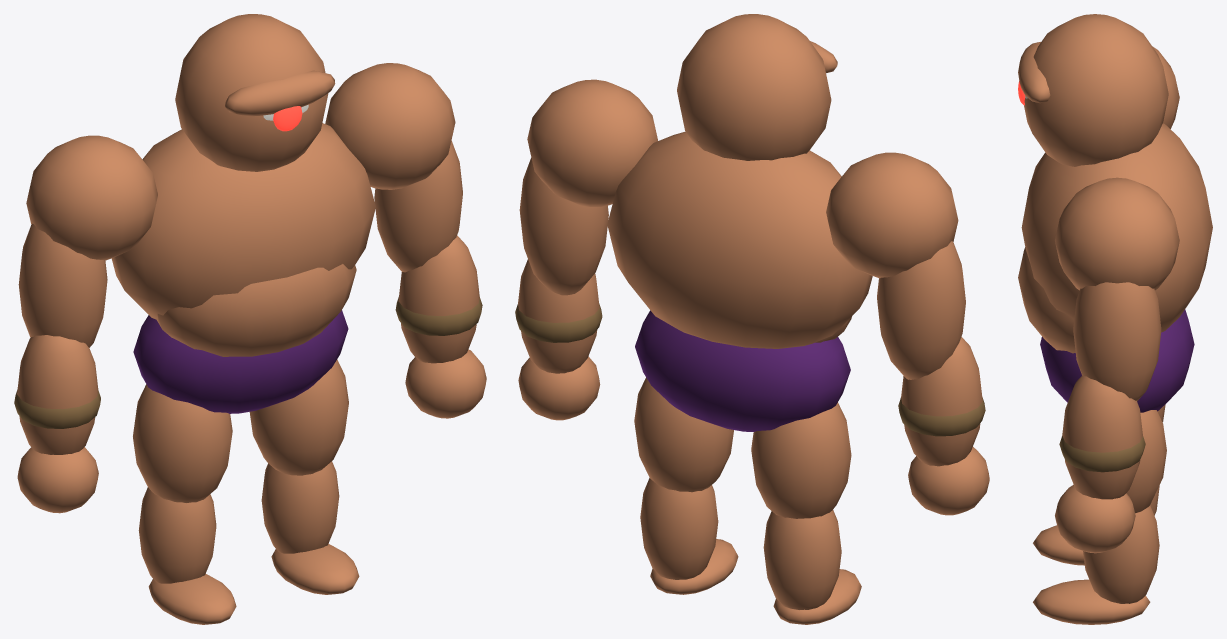
File: TepegozBlock.fbx
3 views of the same model, side by side, from view 1: azimuth 30°, elevation 25°; view 2: azimuth 150°, elevation 25°; view 3: azimuth 270°, elevation 25° (orthographic).
Parts seen in each view (by area): view 1: TepegozBlock; view 2: TepegozBlock; view 3: TepegozBlock.
Boxes of the visible parts, <box> form: TepegozBlock: <box>14,14,486,624</box>; TepegozBlock: <box>515,14,989,624</box>; TepegozBlock: <box>1018,14,1212,624</box>.
Size of the model in its own units: 2.84 by 3.41 by 1.06.
